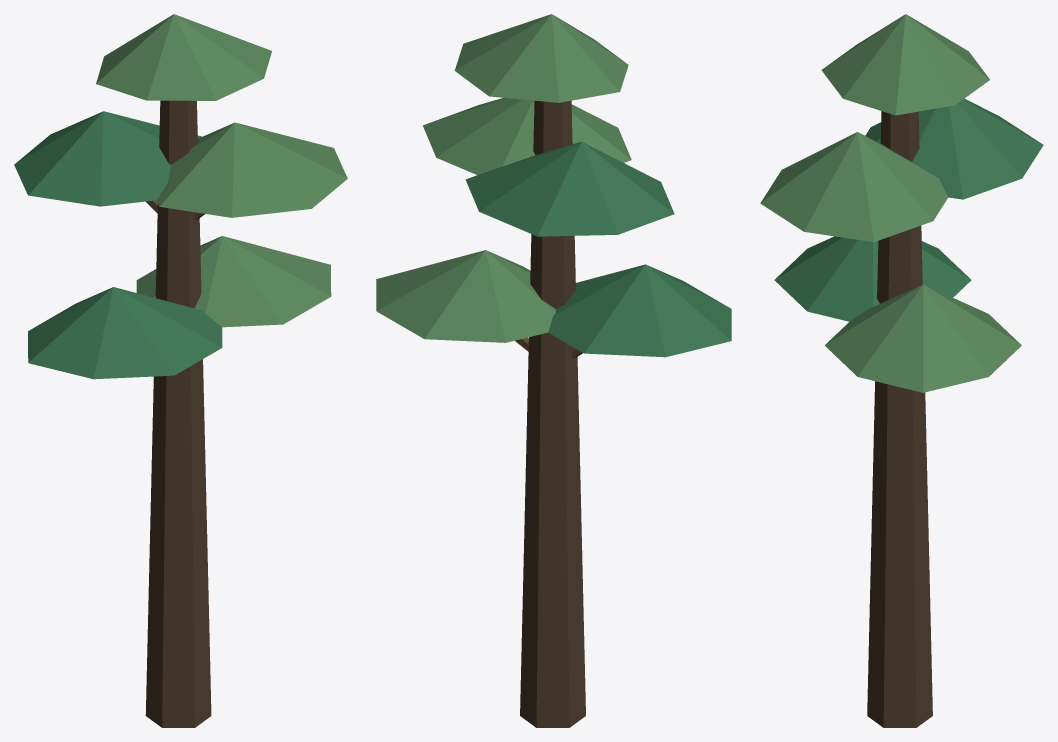
The model's file is prop-tree-tropical-almond.glb.
3 views of the same model, side by side, from view 1: azimuth 30°, elevation 25°; view 2: azimuth 150°, elevation 25°; view 3: azimuth 270°, elevation 25° (orthographic).
Visible parts, largest first — view 1: tree-tropical-almond; view 2: tree-tropical-almond; view 3: tree-tropical-almond.
Boxes of the visible parts, x1=… form: tree-tropical-almond: x1=14, y1=14, x2=347, y2=727; tree-tropical-almond: x1=376, y1=14, x2=731, y2=727; tree-tropical-almond: x1=760, y1=14, x2=1043, y2=727.
Size of the model in its own units: 0.98 by 2 by 0.733.
